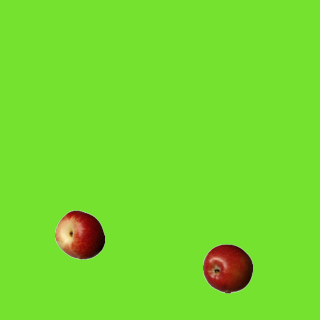Apple Braeburn: (202, 243, 252, 293)
Nectarine: (54, 209, 104, 259)
